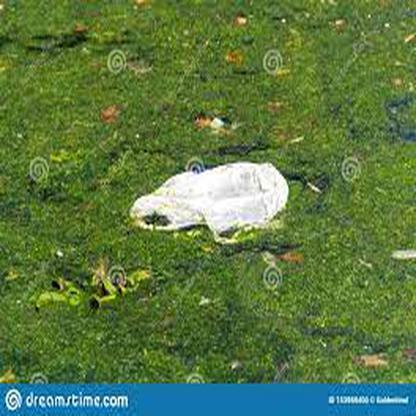plastic bag: (125, 161, 292, 241)
